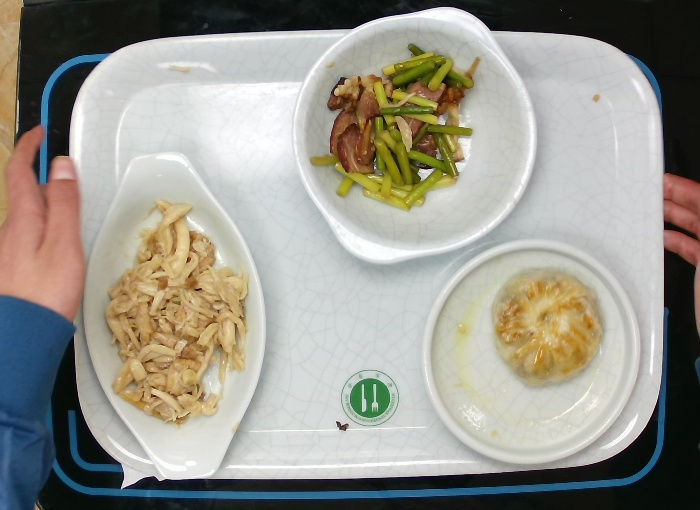JYsf-Shuang_Er_Wan: (291, 4, 539, 266)
JYsf-Xiao_Yuan_Pan: (418, 236, 643, 466)
JYsf-Yu_Pan: (82, 147, 269, 481)
